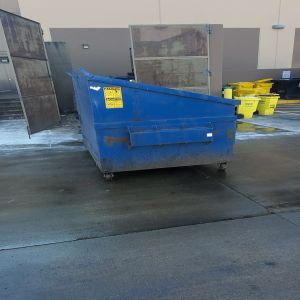Dumpster: (74, 77, 221, 179)
